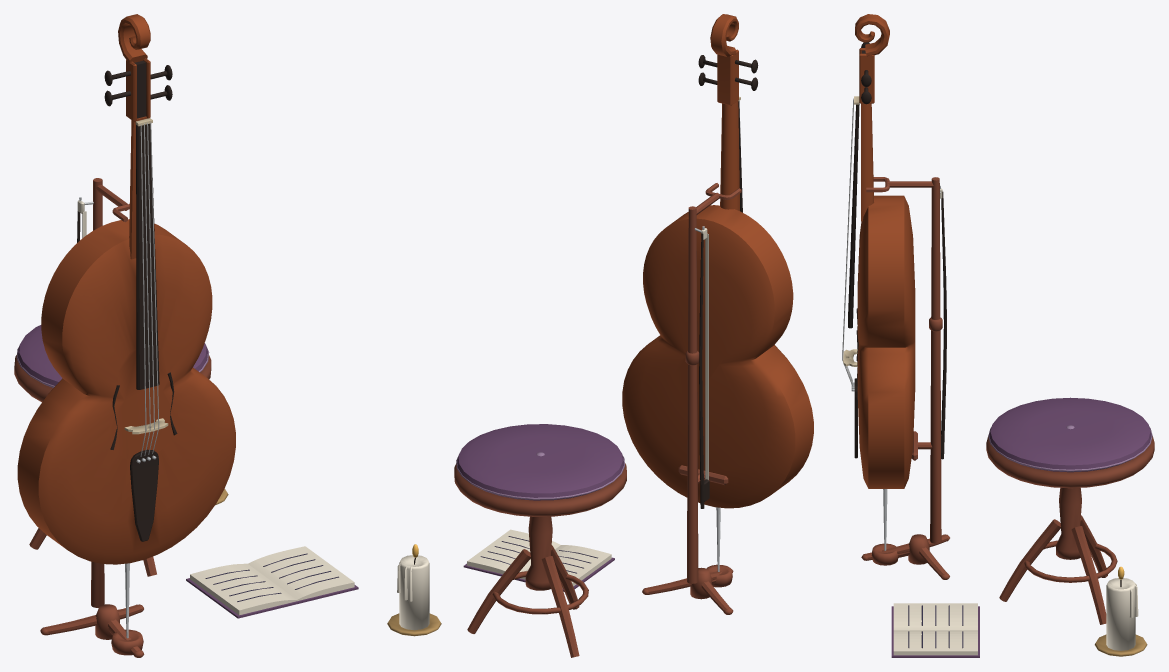
The model's file is cello.glb.
3 renders of one model, left to right at view 1: azimuth 30°, elevation 25°; view 2: azimuth 150°, elevation 25°; view 3: azimuth 270°, elevation 25°, orthographic. The views are drawn at different scales.
Visible parts, largest first — view 1: cello, body; view 2: cello, body; view 3: body, cello.
Part boxes in pixels (box(x1,y1,x2,y2)): cello: box(17, 14, 235, 638); body: box(14, 178, 358, 657); cello: box(622, 14, 813, 571); body: box(387, 183, 741, 657); body: box(861, 177, 1154, 657); cello: box(842, 14, 915, 550).
Size of the model in its own units: 0.7807 by 1.43 by 0.7422.
